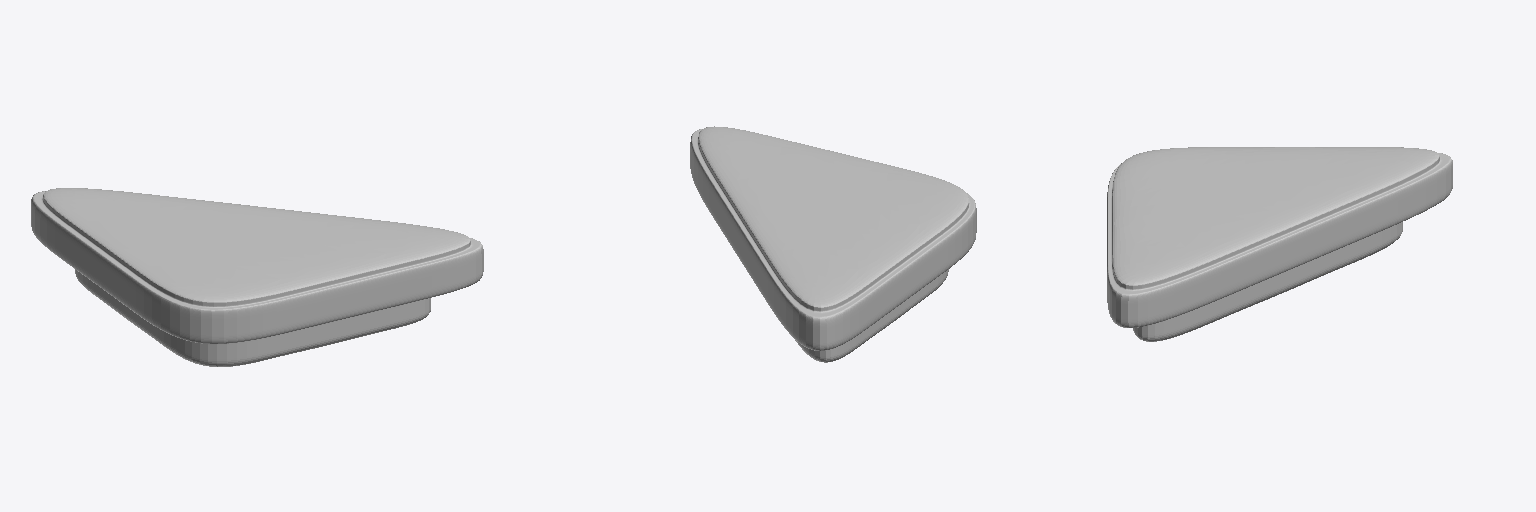
The model's file is LeftSlingshot.obj.
3 views of the same model, side by side, from view 1: azimuth 30°, elevation 25°; view 2: azimuth 150°, elevation 25°; view 3: azimuth 270°, elevation 25° (orthographic).
Visible parts, largest first — view 1: Cube.000_Cube.002; view 2: Cube.000_Cube.002; view 3: Cube.000_Cube.002.
Part boxes in pixels (left/top/right/bottom): Cube.000_Cube.002: left=31, top=188, right=483, bottom=366; Cube.000_Cube.002: left=690, top=126, right=976, bottom=362; Cube.000_Cube.002: left=1107, top=147, right=1452, bottom=341.
Bounding box in the file's own units: 1.01 × 0.2677 × 1.01.